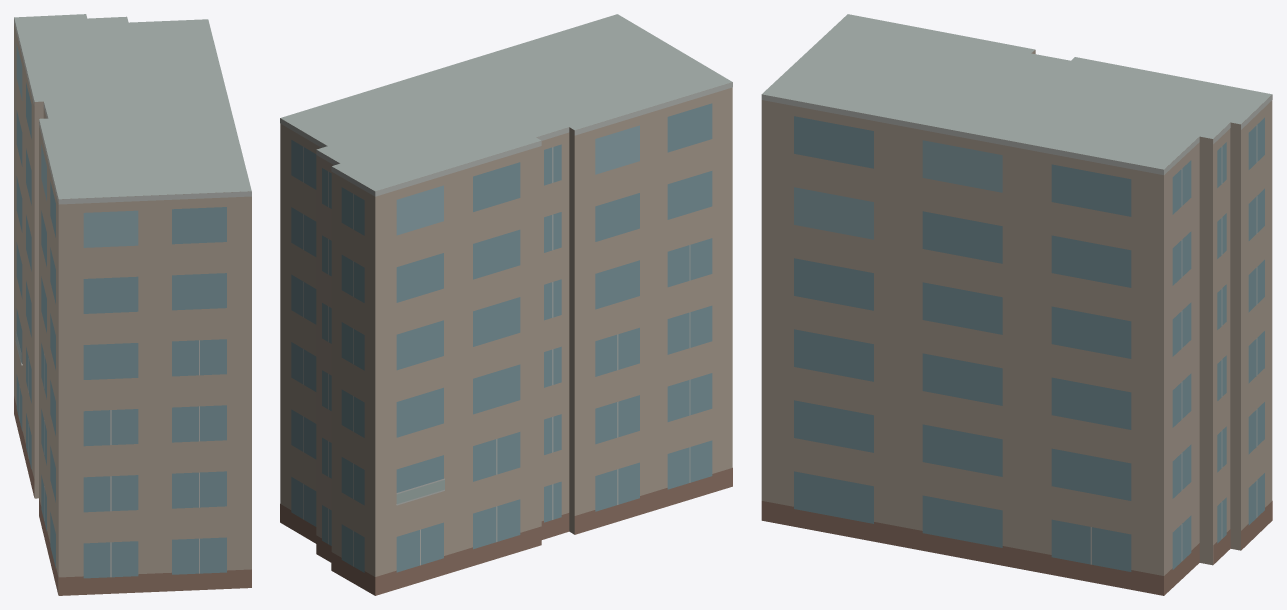
Rendered from survey-upis-33018601.glb.
3 views of the same model, side by side, from view 1: azimuth 30°, elevation 25°; view 2: azimuth 150°, elevation 25°; view 3: azimuth 270°, elevation 25° (orthographic). The views are drawn at different scales.
Parts seen in each view (by area): view 1: survey-upis-33018601.tmp; view 2: survey-upis-33018601.tmp; view 3: survey-upis-33018601.tmp.
Boxes of the visible parts, bbox=[...] form: survey-upis-33018601.tmp: bbox=[14, 14, 251, 595]; survey-upis-33018601.tmp: bbox=[280, 14, 732, 595]; survey-upis-33018601.tmp: bbox=[761, 14, 1272, 595].
Bounding box in the file's own units: 14.5 × 18.5 × 20.1.
